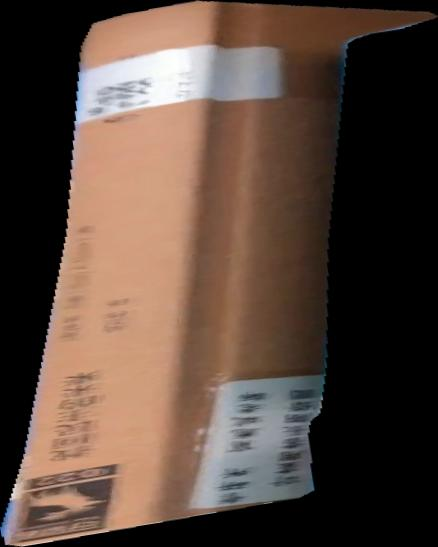reverse: (1, 1, 438, 547)
